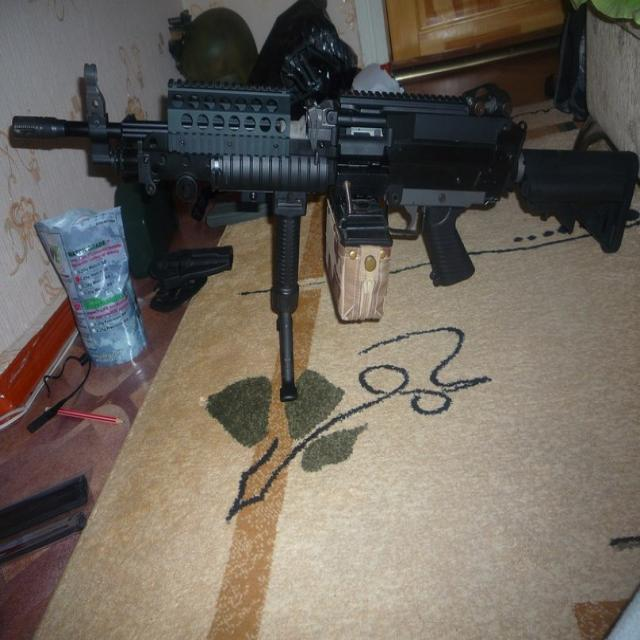firearm: (10, 64, 640, 408)
